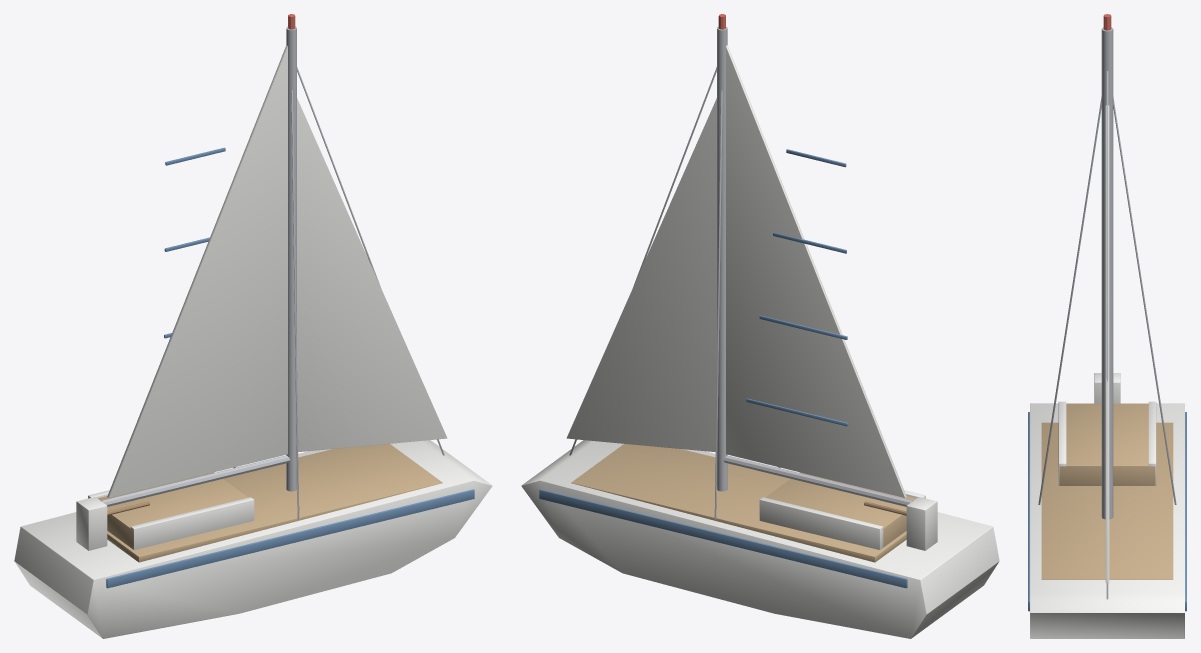
The model's file is th45_segelboot.glb.
3 renders of one model, left to right at view 1: azimuth 30°, elevation 25°; view 2: azimuth 150°, elevation 25°; view 3: azimuth 270°, elevation 25°, orthographic. The views are drawn at different scales.
Parts seen in each view (by area): view 1: Grosssegel, Rumpf, Fock, Cube.001, Cylinder, Cube, Cube.002, Cube.003, Cylinder.001, Cube.012, Cube.009; view 2: Grosssegel, Rumpf, Fock, Cube.001, Cylinder, Cube, Cube.002, Cube.004, Cylinder.001, Cube.012, Cube.010; view 3: Cube.001, Rumpf, Cube.002, Cylinder, Fock, Cube.009, Cube.010, Cube.011, Cube, Cube.004, Cube.003, Cube.012.
Part boxes in pixels (x1,y1,x2,y2): Grosssegel: (107, 45, 287, 497); Rumpf: (14, 440, 492, 638); Fock: (297, 98, 447, 451); Cube.001: (107, 444, 442, 562); Cylinder: (286, 26, 296, 491); Cube: (106, 489, 474, 588); Cube.002: (97, 472, 248, 549); Cube.003: (130, 497, 254, 549); Cylinder.001: (101, 455, 290, 506); Cube.012: (76, 497, 107, 550); Cube.009: (291, 90, 299, 519); Grosssegel: (726, 45, 906, 497); Rumpf: (521, 440, 999, 638); Fock: (566, 98, 716, 451); Cube.001: (571, 444, 906, 562); Cylinder: (717, 26, 727, 491); Cube: (539, 489, 907, 588); Cube.002: (766, 472, 916, 547); Cube.004: (759, 497, 883, 549); Cylinder.001: (723, 455, 912, 506); Cube.012: (906, 497, 937, 550); Cube.010: (714, 90, 722, 519); Cube.001: (1041, 422, 1173, 579); Rumpf: (1030, 403, 1184, 638); Cube.002: (1059, 403, 1155, 485); Cylinder: (1101, 27, 1113, 519); Fock: (1105, 105, 1109, 583); Cube.009: (1038, 97, 1101, 504); Cube.010: (1113, 97, 1176, 504); Cube.011: (1106, 71, 1108, 599); Cube: (1028, 412, 1186, 611); Cube.004: (1148, 401, 1156, 485); Cube.003: (1058, 401, 1066, 485); Cube.012: (1094, 373, 1120, 403).
Bounding box in the file's own units: 6.4 × 8.29 × 2.05.
